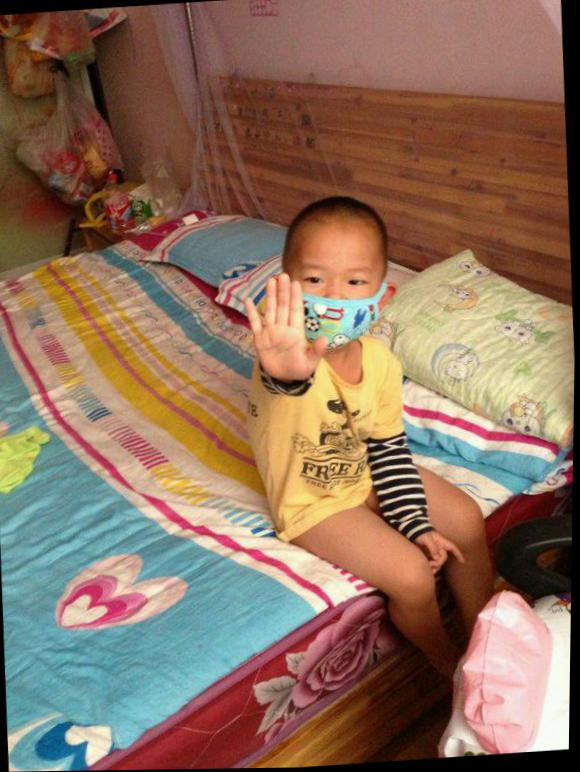WRONG: (286, 253, 391, 357)
